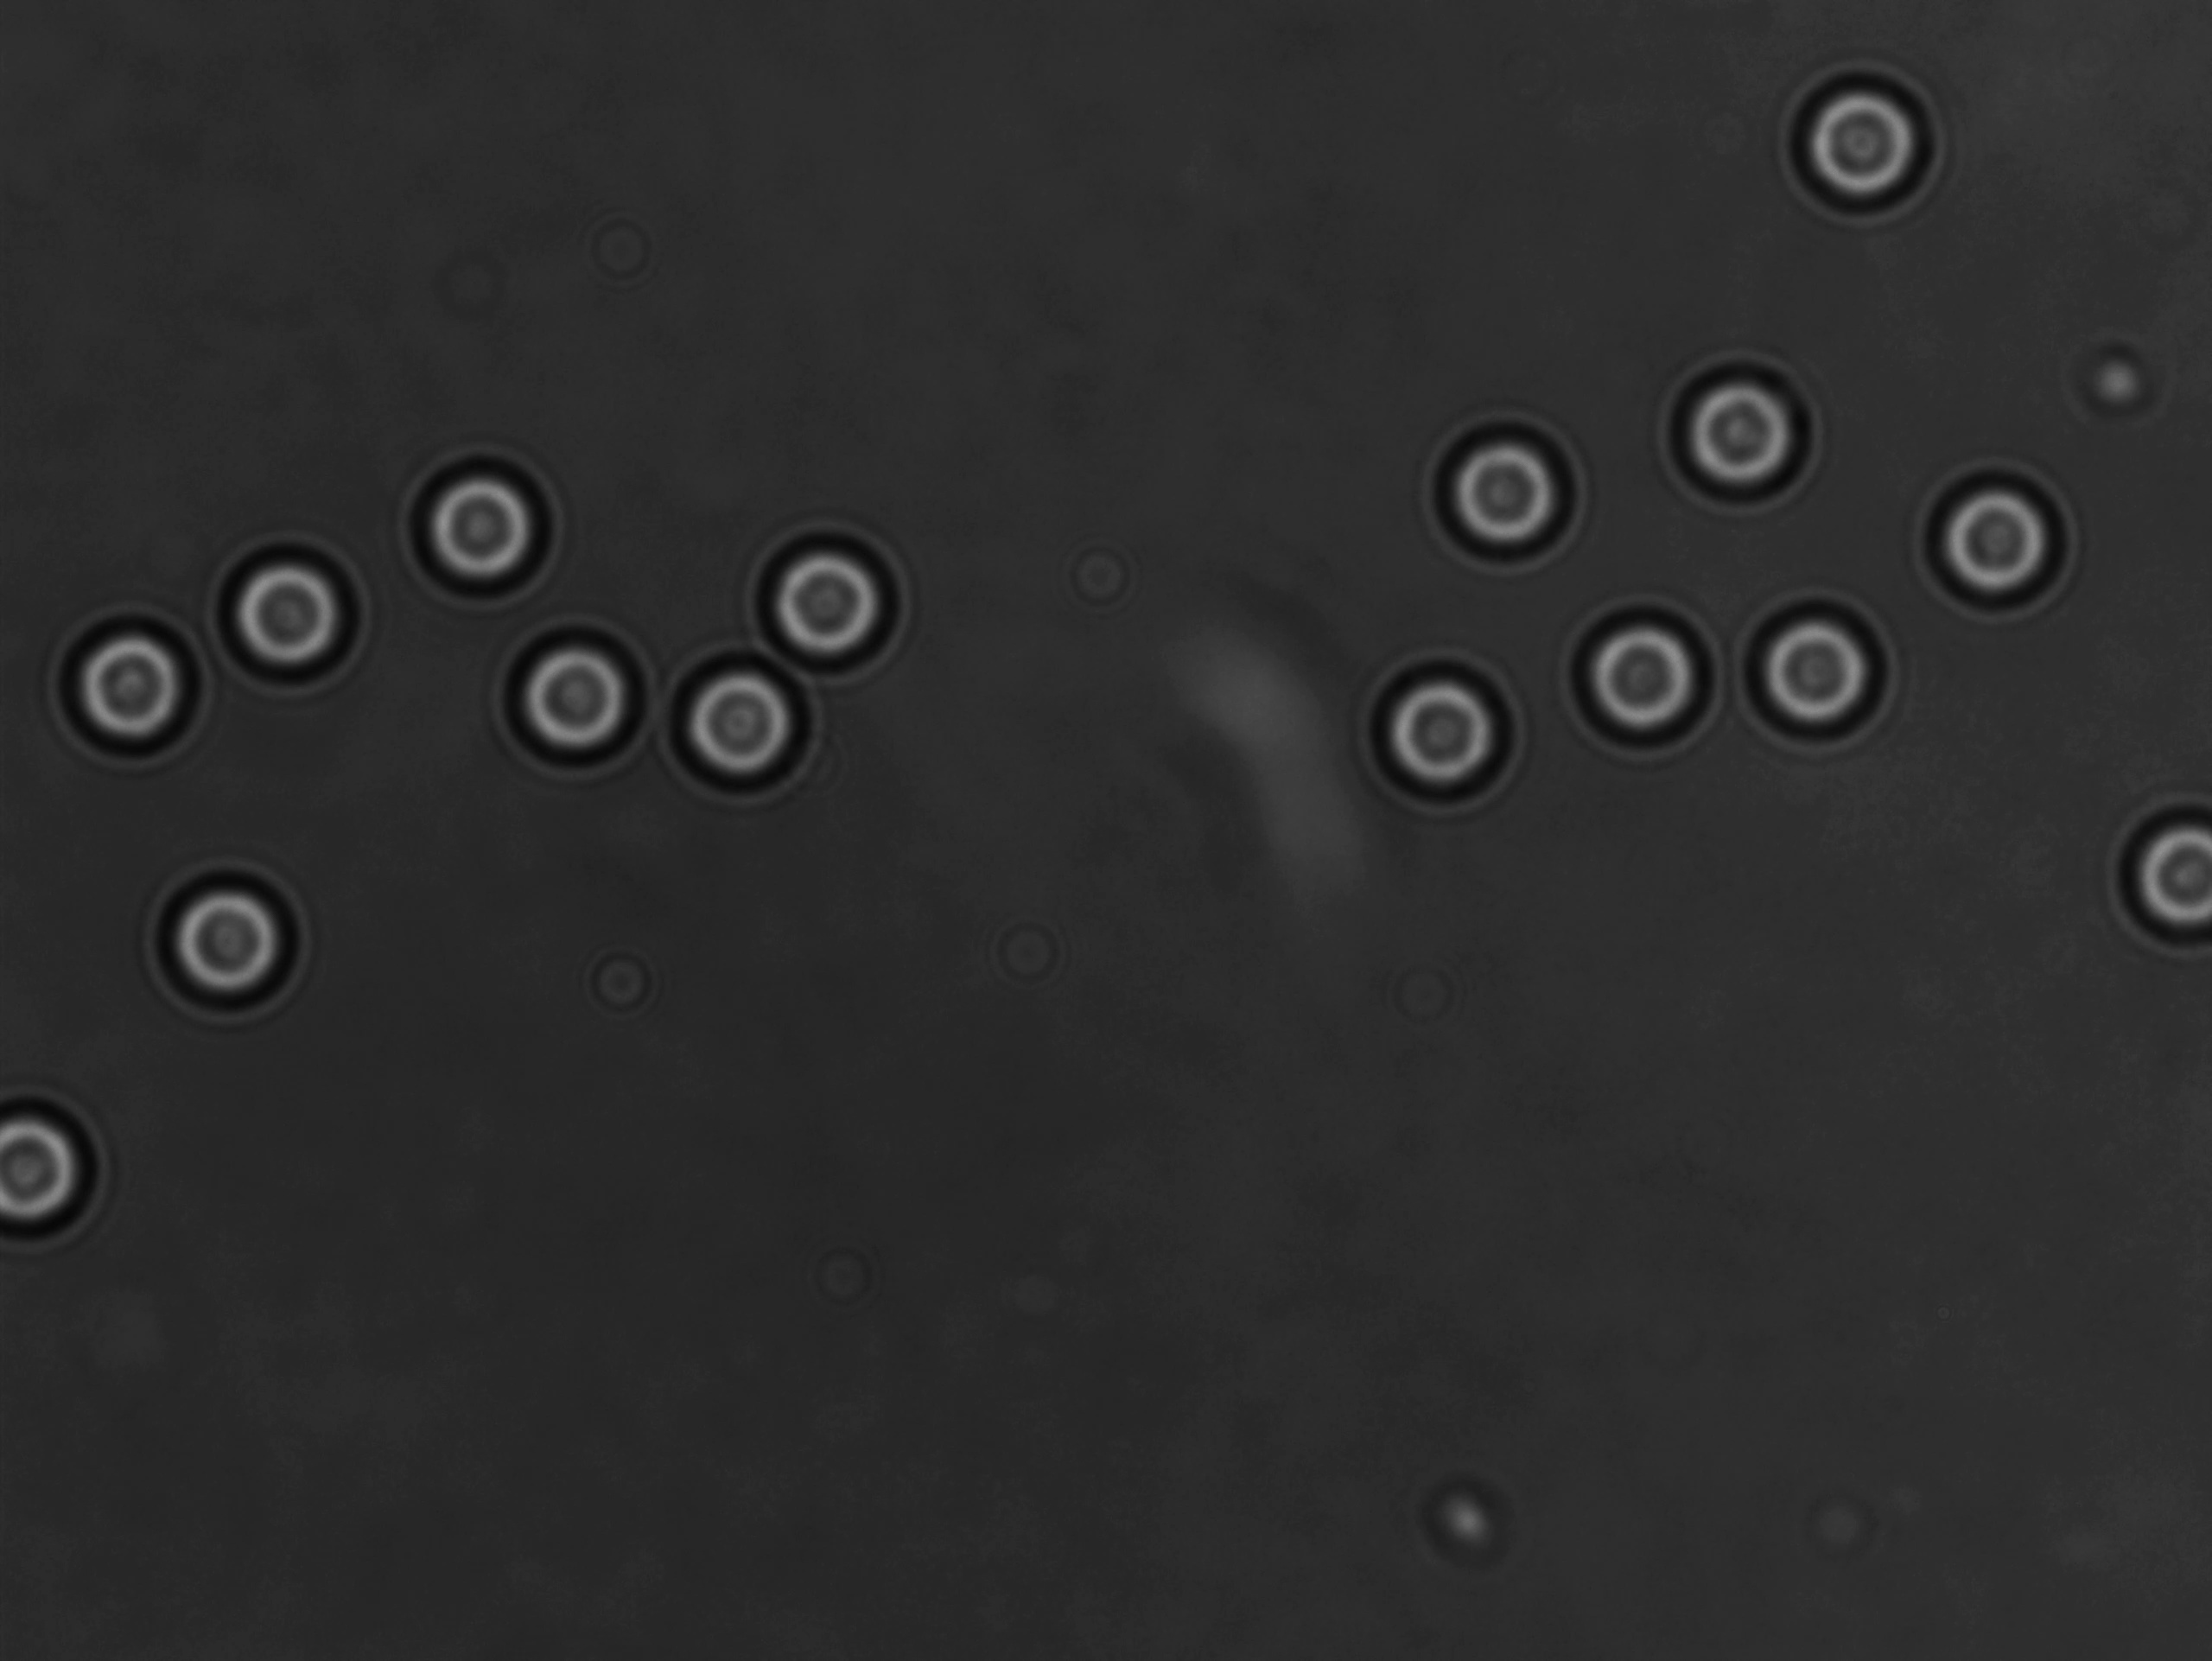depth:20: (143, 851, 335, 1017), (1556, 578, 1731, 757), (1732, 584, 1914, 754), (1359, 642, 1526, 817), (488, 614, 663, 780), (741, 516, 916, 682), (1778, 51, 1936, 232), (645, 653, 811, 824), (1915, 443, 2081, 611), (1661, 338, 1814, 513), (1411, 412, 1574, 576), (206, 530, 368, 694), (42, 604, 202, 766), (405, 450, 567, 604), (2095, 782, 2212, 953)
